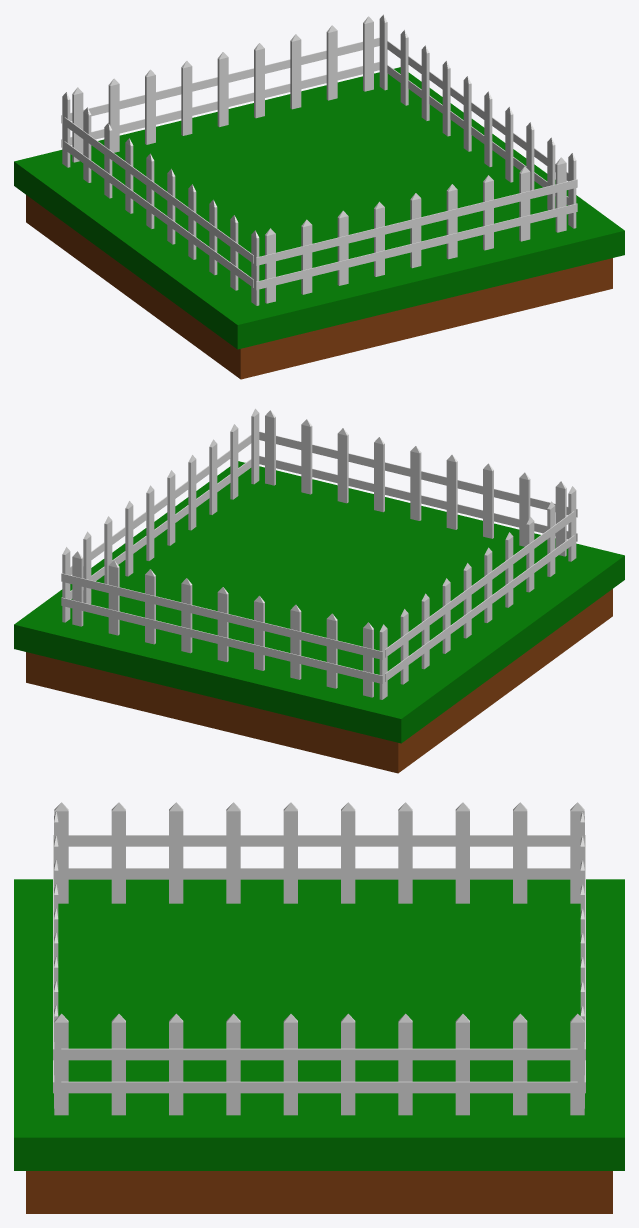
File: PlatformJoined.fbx
3 renders of one model, top to bottom at view 1: azimuth 30°, elevation 25°; view 2: azimuth 150°, elevation 25°; view 3: azimuth 270°, elevation 25°, orthographic. The views are drawn at different scales.
Parts seen in each view (by area): view 1: Platform; view 2: Platform; view 3: Platform.
Part boxes in pixels (<box>): Platform: <box>14,14,624,379</box>; Platform: <box>14,408,624,773</box>; Platform: <box>14,802,624,1213</box>.
Bounding box in the file's own units: 1946 × 640 × 1946.
